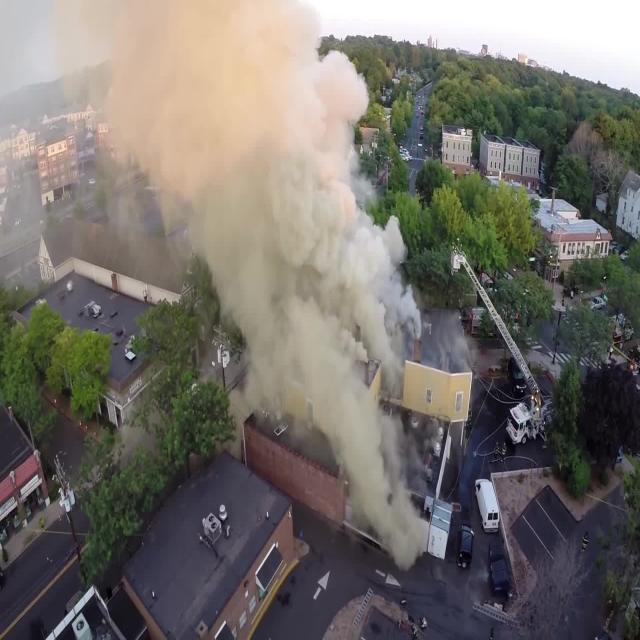smoke: (11, 21, 353, 261), (245, 270, 424, 574)
